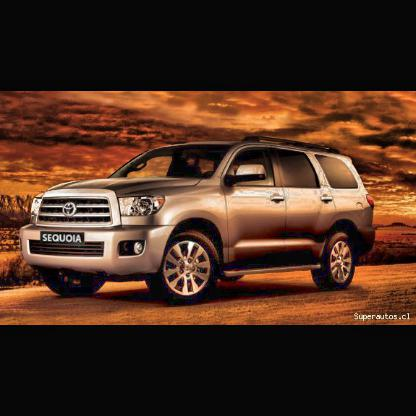Toyota Sequoia SUV 2012: (21, 136, 376, 306)
